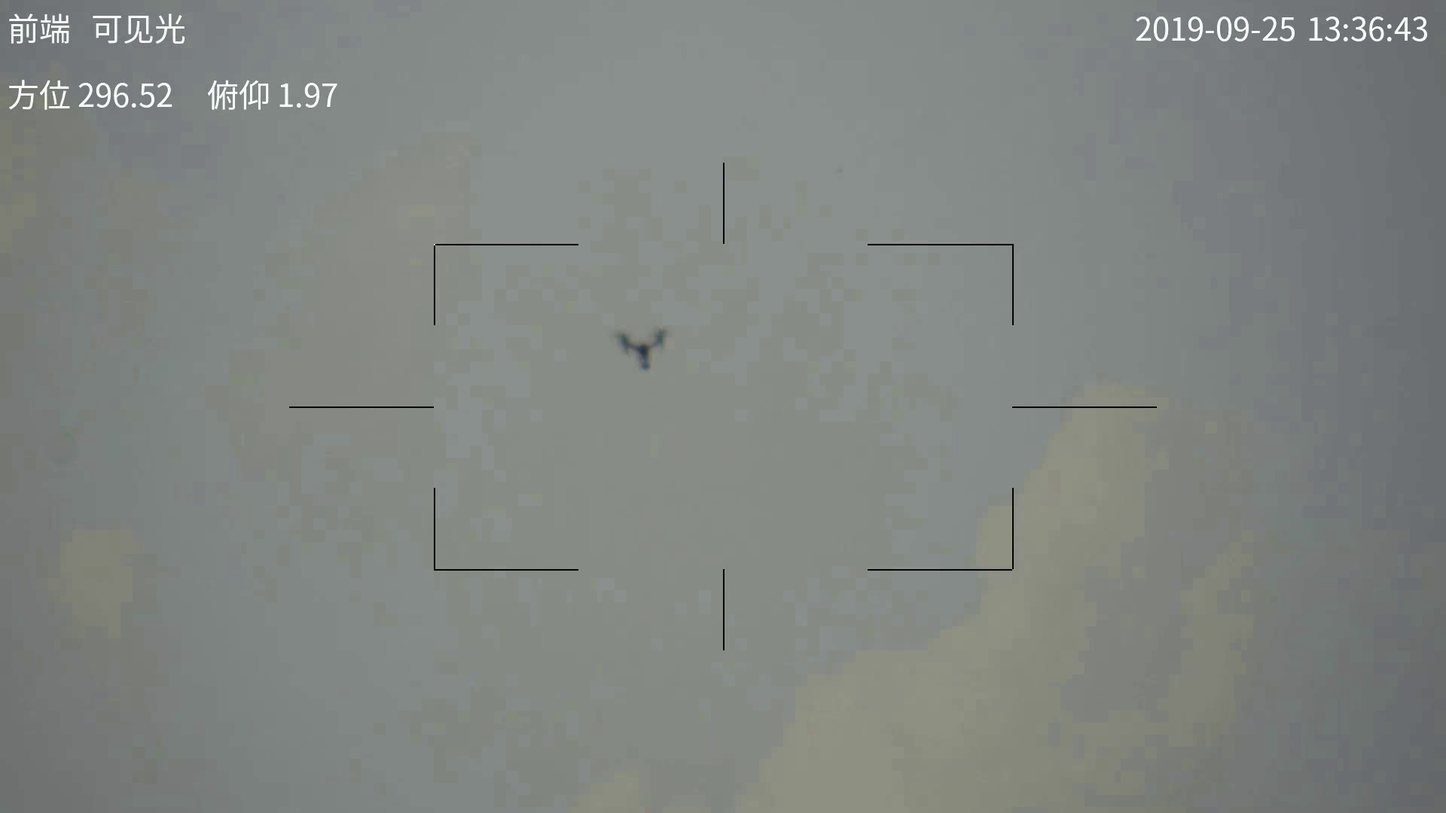drone_other: (611, 326, 669, 376)
